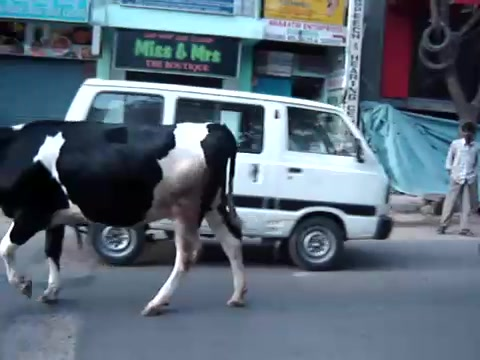cow: (1, 121, 251, 317)
